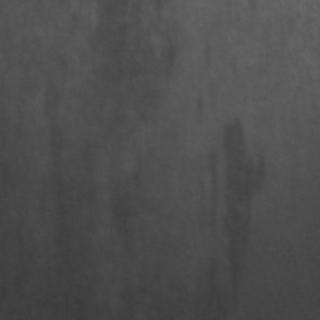inclusion: (31, 64, 85, 272), (204, 114, 264, 290), (109, 165, 153, 259), (141, 15, 173, 93)
